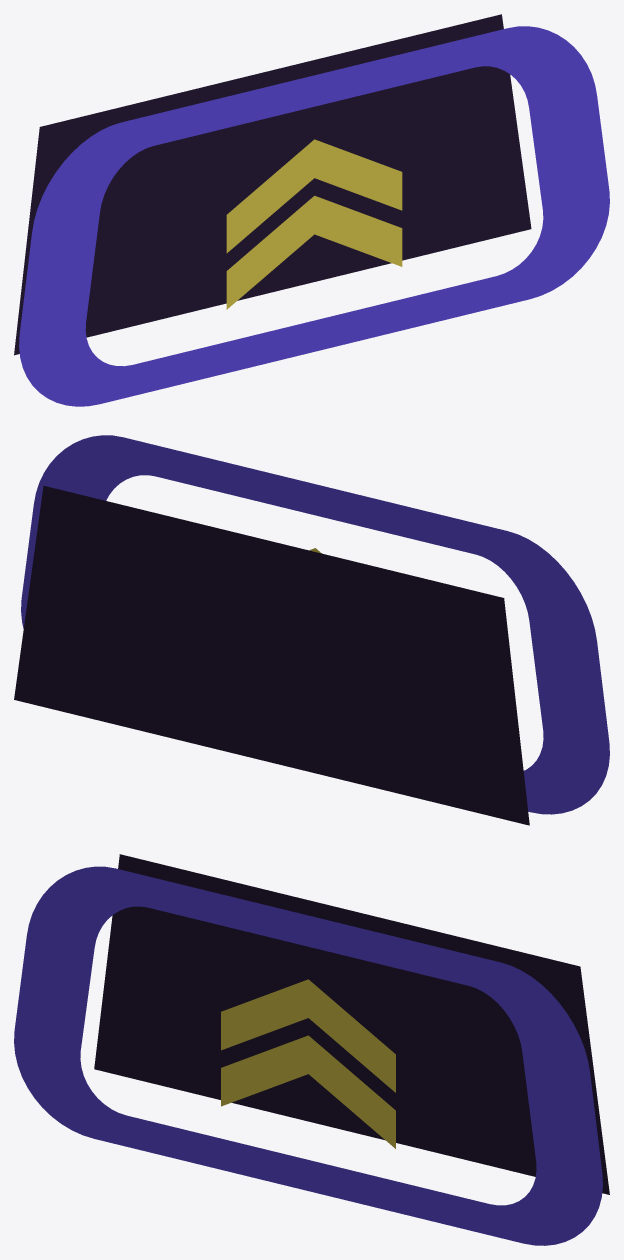
Rendered from box_yump.glb.
3 views of the same model, one above another, from view 1: azimuth 30°, elevation 25°; view 2: azimuth 150°, elevation 25°; view 3: azimuth 330°, elevation 25° (orthographic).
Parts seen in each view (by area): view 1: box_jump, jump; view 2: box_jump; view 3: box_jump, jump.
Part boxes in pixels (x1=…): box_jump: x1=14, y1=14, x2=609, y2=406; jump: x1=226, y1=139, x2=402, y2=309; box_jump: x1=14, y1=435, x2=609, y2=825; box_jump: x1=14, y1=854, x2=609, y2=1245; jump: x1=221, y1=979, x2=395, y2=1148.
Bounding box in the file's own units: 7.98 × 3.57 × 1.
